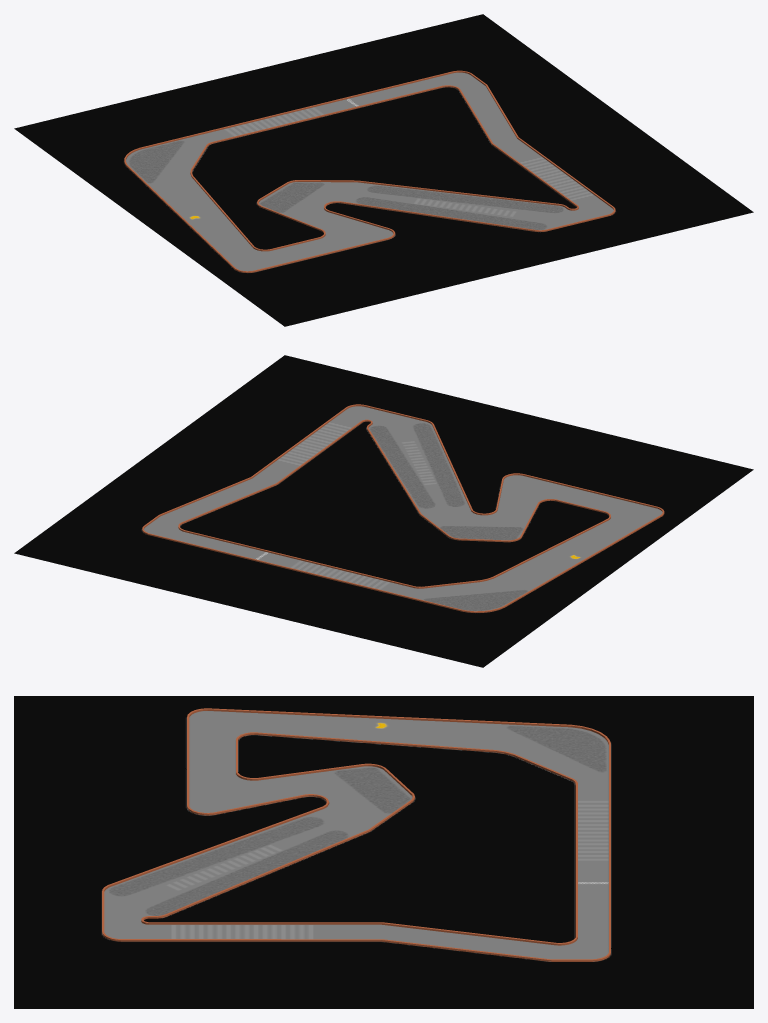
File: track2.glb
The picture shows the model from 3 angles, top to bottom: view 1: azimuth 30°, elevation 25°; view 2: azimuth 150°, elevation 25°; view 3: azimuth 270°, elevation 25°; orthographic projection. The views are drawn at different scales.
Parts seen in each view (by area): view 1: trackPlane, Curve.001; view 2: trackPlane, Curve.001; view 3: trackPlane, Curve.001.
Part boxes in pixels (bbox=[...]): trackPlane: bbox=[14, 14, 753, 326]; Curve.001: bbox=[124, 70, 615, 272]; trackPlane: bbox=[14, 355, 753, 667]; Curve.001: bbox=[142, 404, 664, 612]; trackPlane: bbox=[14, 696, 753, 1008]; Curve.001: bbox=[102, 708, 610, 961].
Size of what is drawn, in the model's own units: 40 by 0.1 by 40.
Materials: 2 (1 with a texture image).
